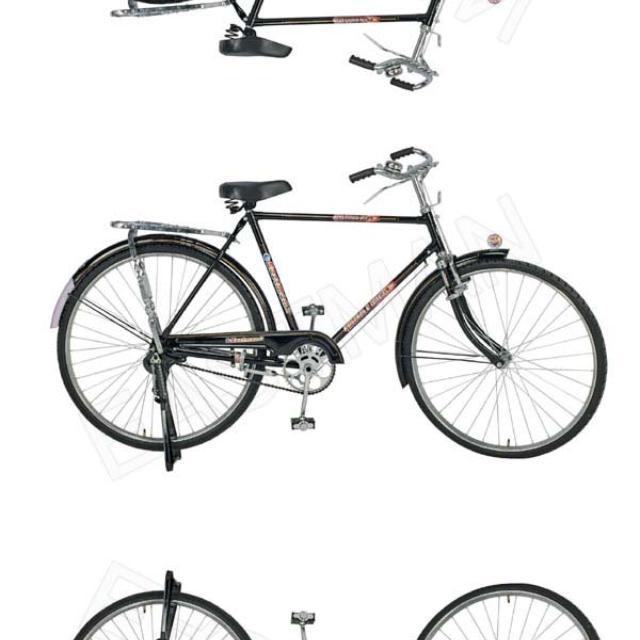obstacle: (75, 134, 615, 486), (75, 0, 615, 101), (75, 554, 615, 640)
